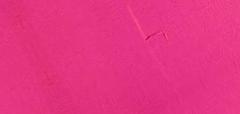snag: (141, 25, 172, 45)
